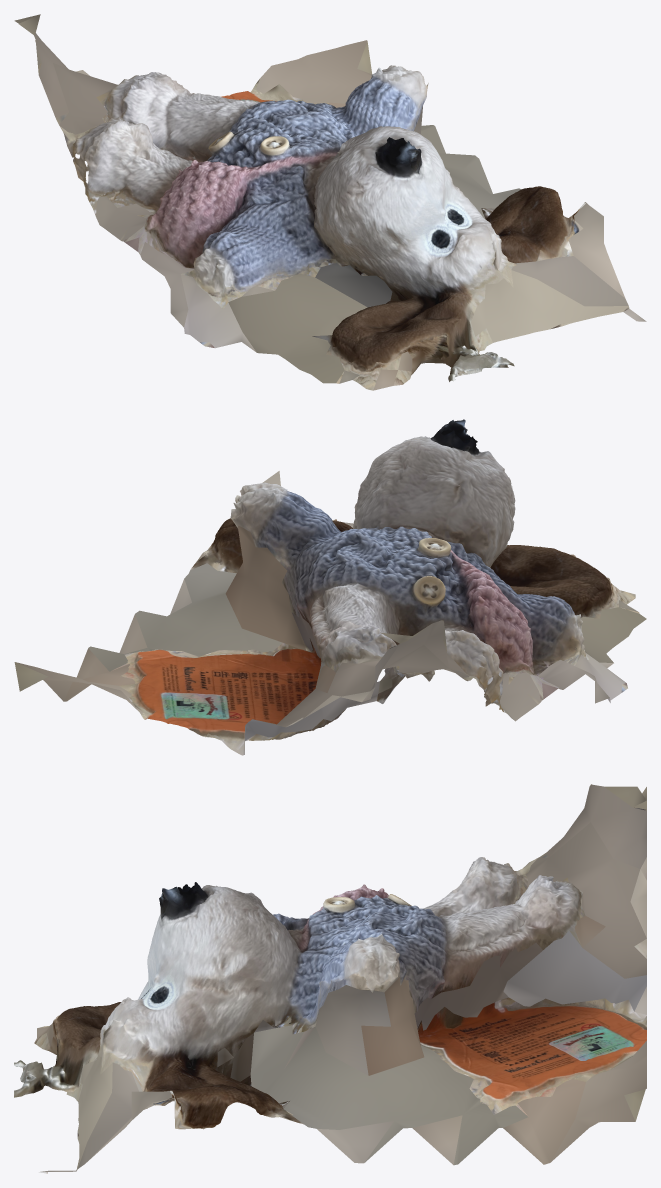
Rendered from dog.glb.
3 views of the same model, one above another, from view 1: azimuth 30°, elevation 25°; view 2: azimuth 150°, elevation 25°; view 3: azimuth 270°, elevation 25° (orthographic). The views are drawn at different scales.
Parts seen in each view (by area): view 1: Object_2, Object_3; view 2: Object_2, Object_3; view 3: Object_2, Object_3.
Boxes of the visible parts, x1,y1,x2,y2 form: Object_2: (14,14,646,377); Object_3: (56,41,558,390); Object_2: (16,419,608,755); Object_3: (14,425,646,750); Object_2: (14,784,646,1173); Object_3: (14,852,646,1164).
Bounding box in the file's own units: 0.3523 × 0.1732 × 0.4969.
1 material, 1 textured.
